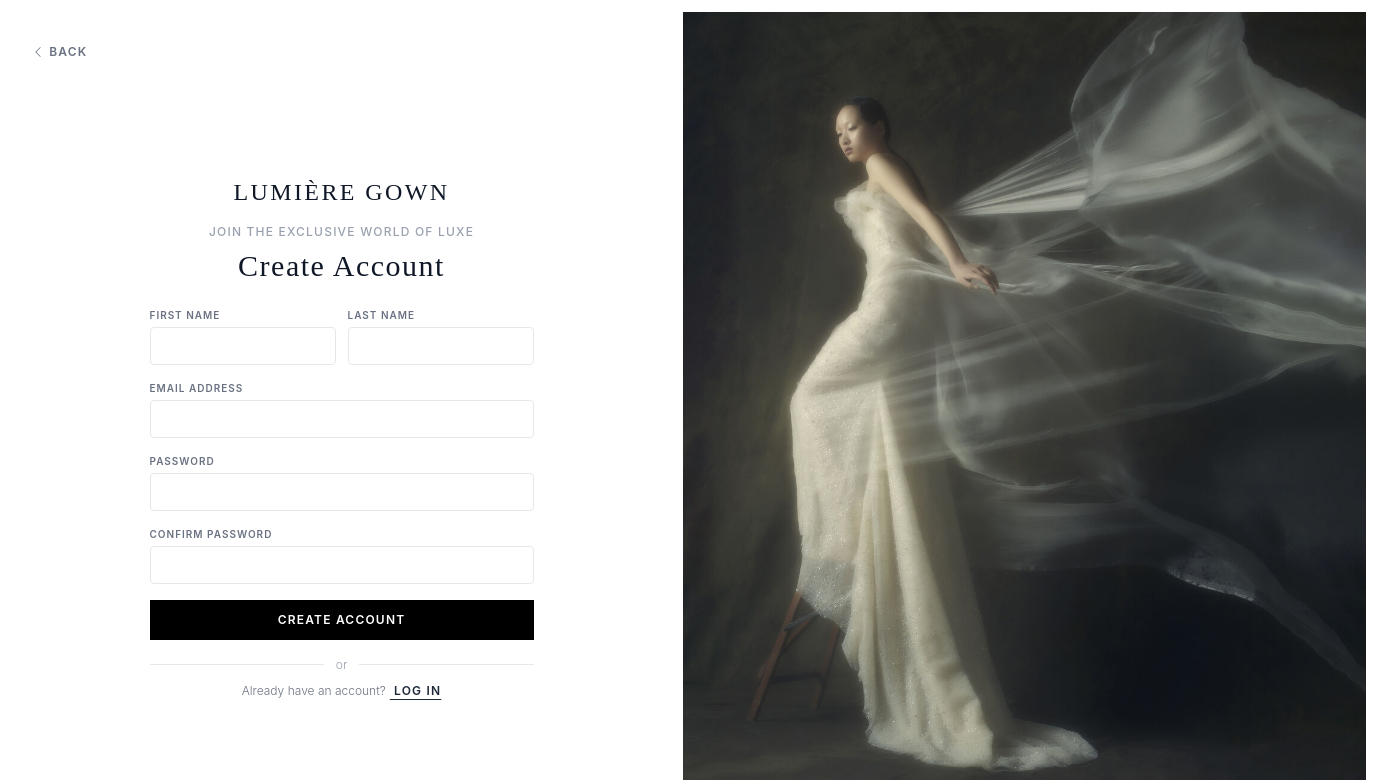
Test: RegisterView.vue › displays error detail when registration fails from server
The width and height of the screenshot is (1378, 780).
Type "Chanya" into the field with id "firstName" at (242, 346), box [150,327,336,365]
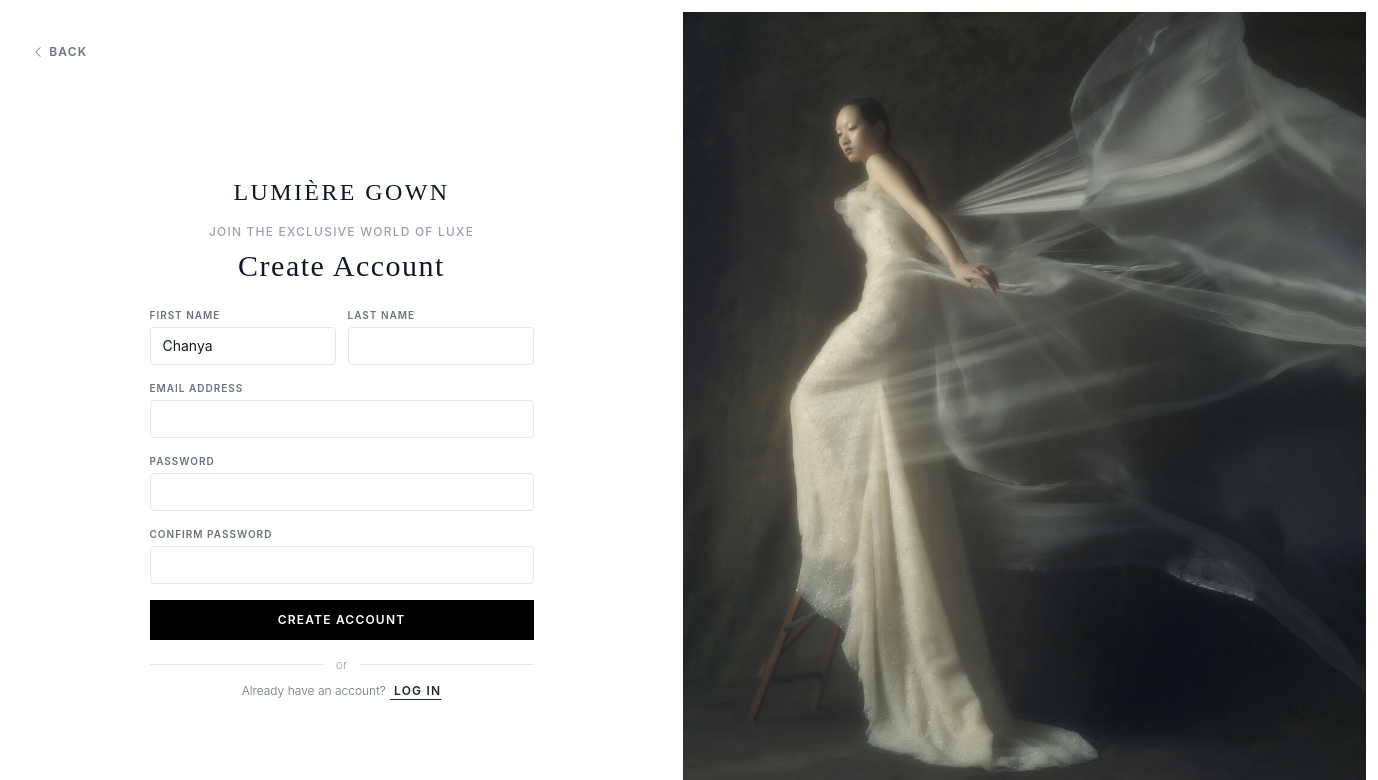
Type "exist@metric.com" into the field with id "email" at (342, 419), box [150,400,534,438]
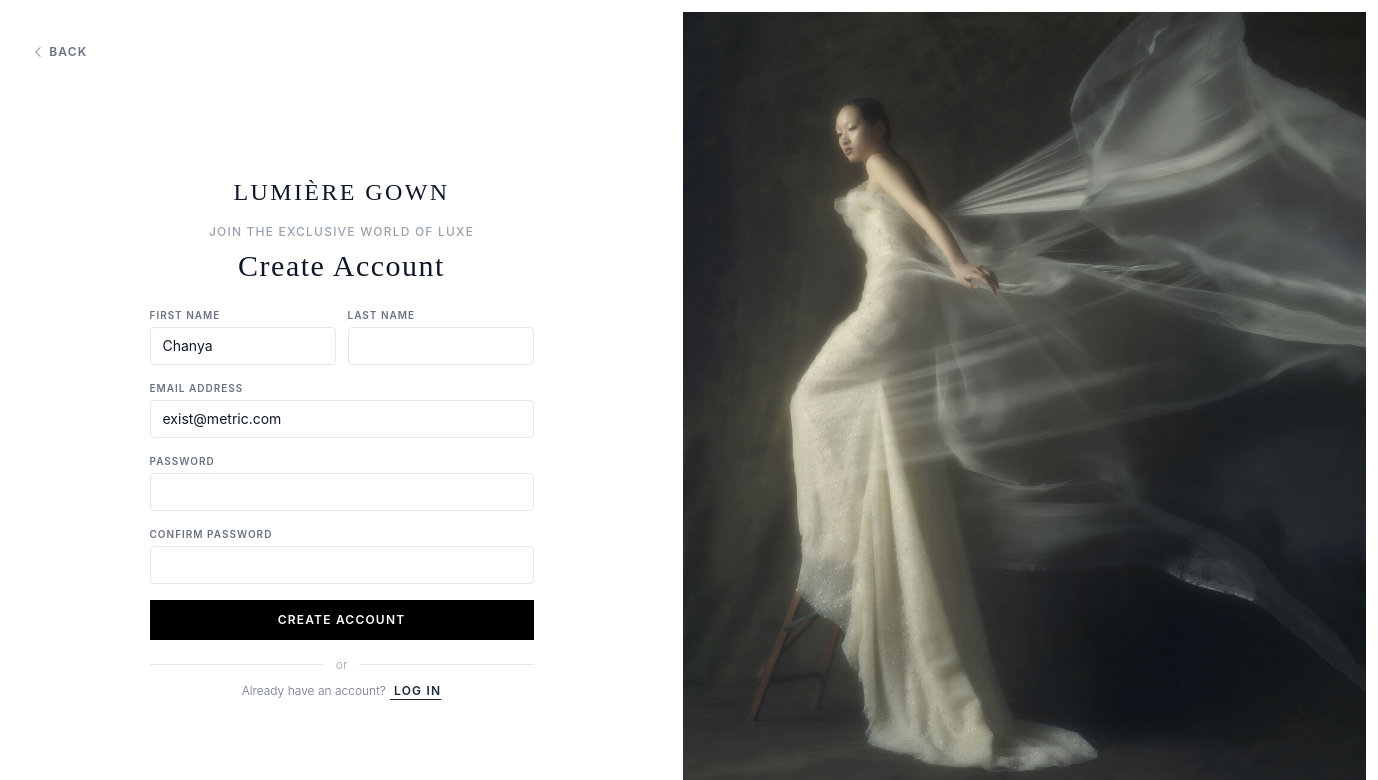
Type "password123" into the password field labelled "Password" at (342, 492), box [150,473,534,511]
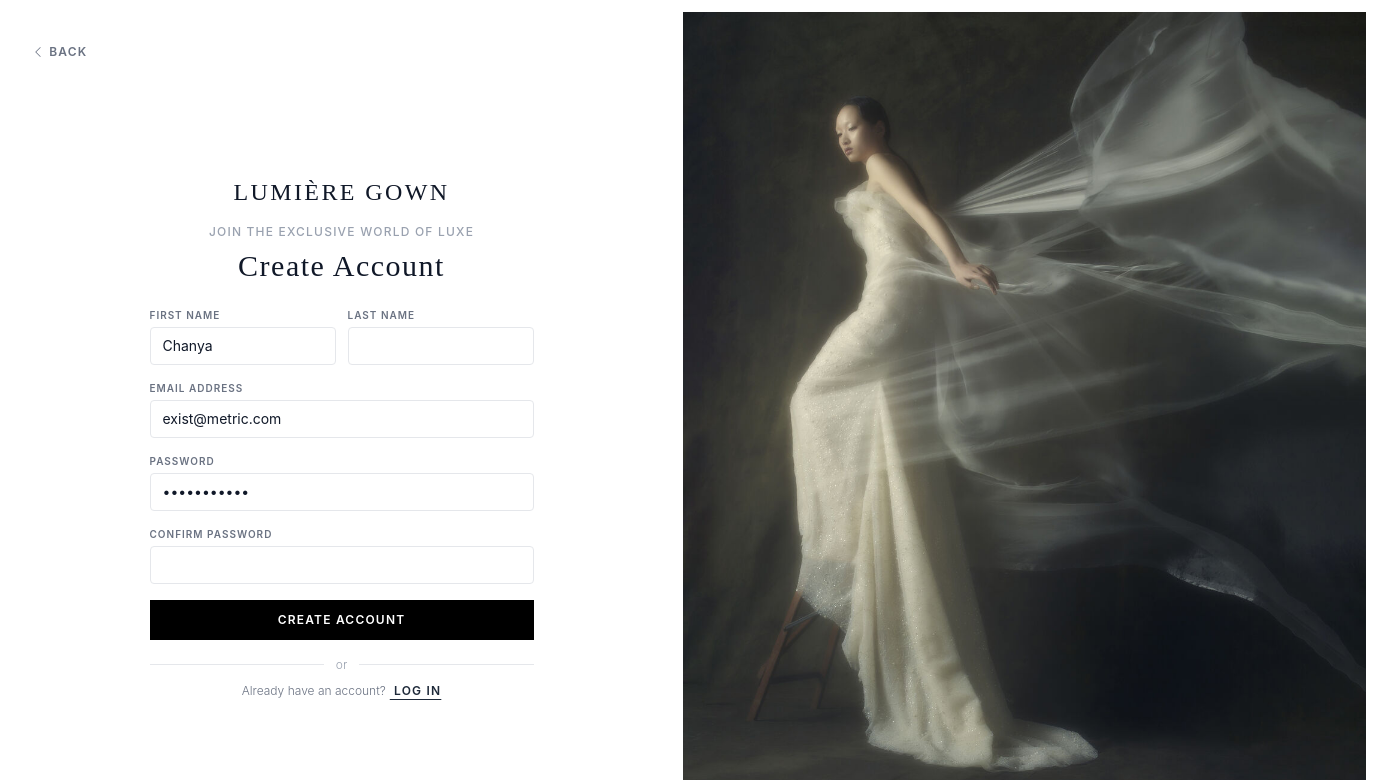
Type "password123" into the password field labelled "Confirm Password" at (342, 565), box [150,546,534,584]
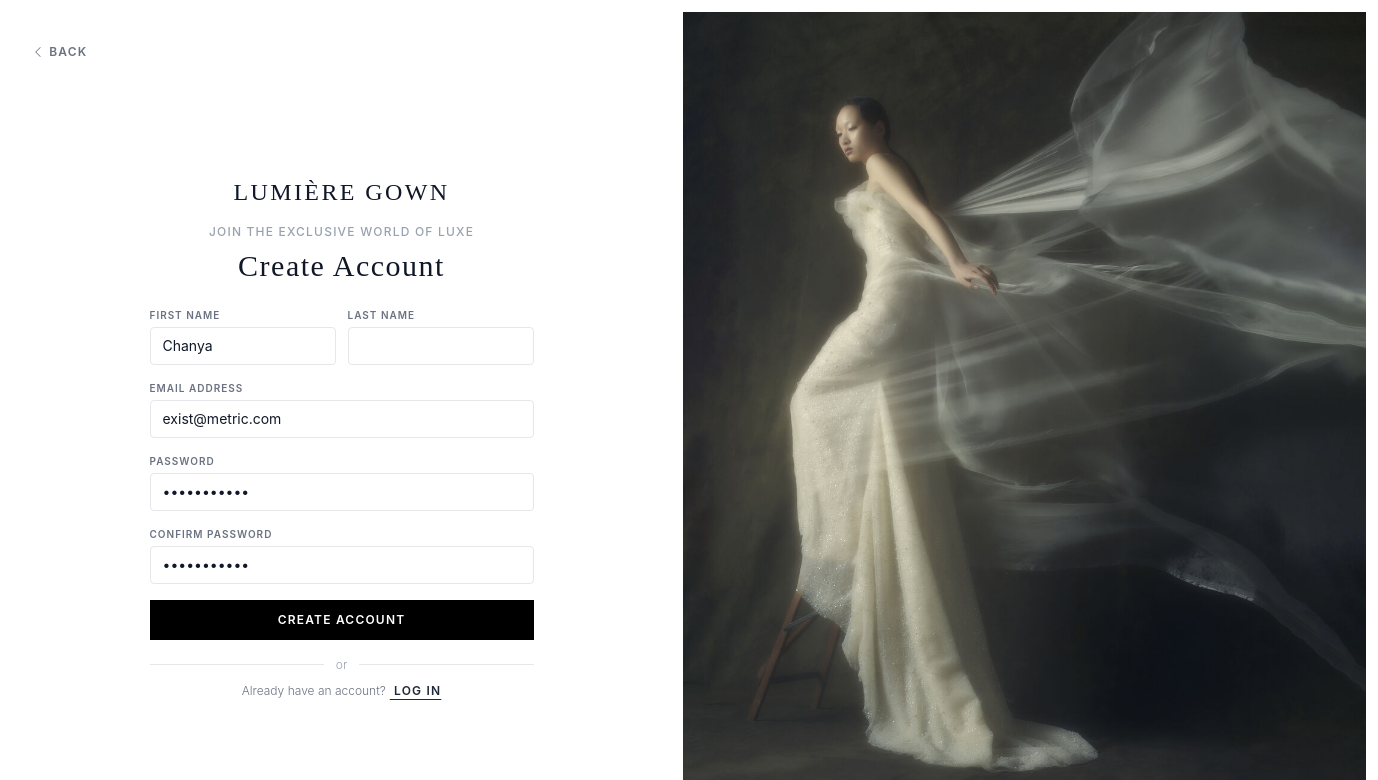
Submit the form, box [150,308,534,640]
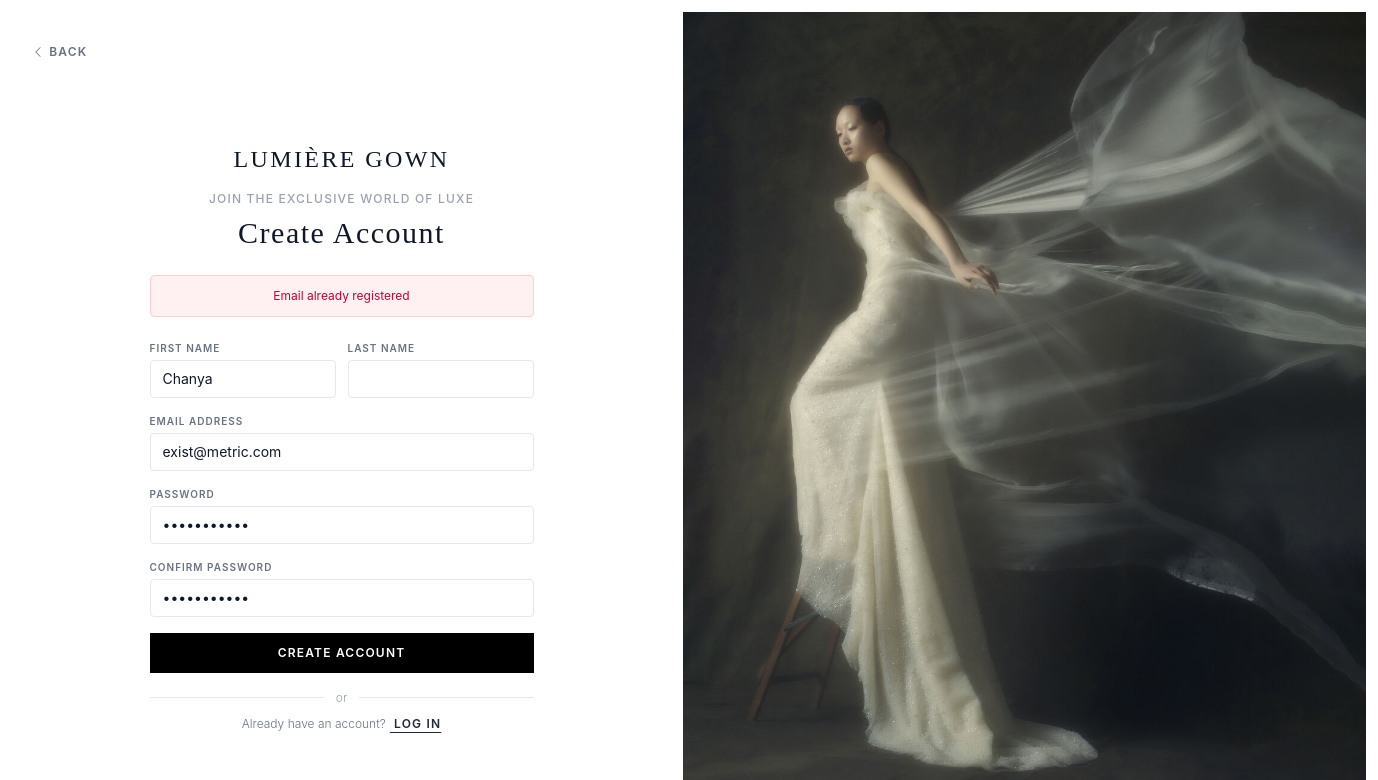
Now the text "Email already registered" is shown, box [150,275,534,317]
